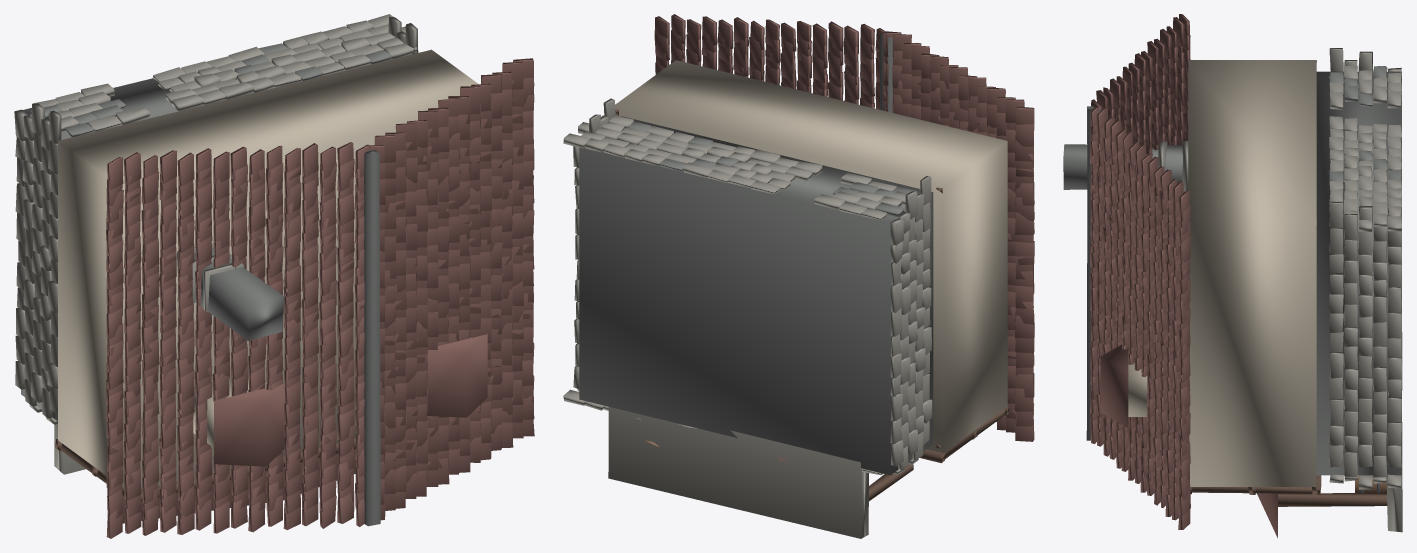
Rendered from inn_hd.glb.
3 renders of one model, left to right at view 1: azimuth 30°, elevation 25°; view 2: azimuth 150°, elevation 25°; view 3: azimuth 270°, elevation 25°, orthographic. The views are drawn at different scales.
Size of the model in its own units: 10.25 by 9.62 by 7.94.
